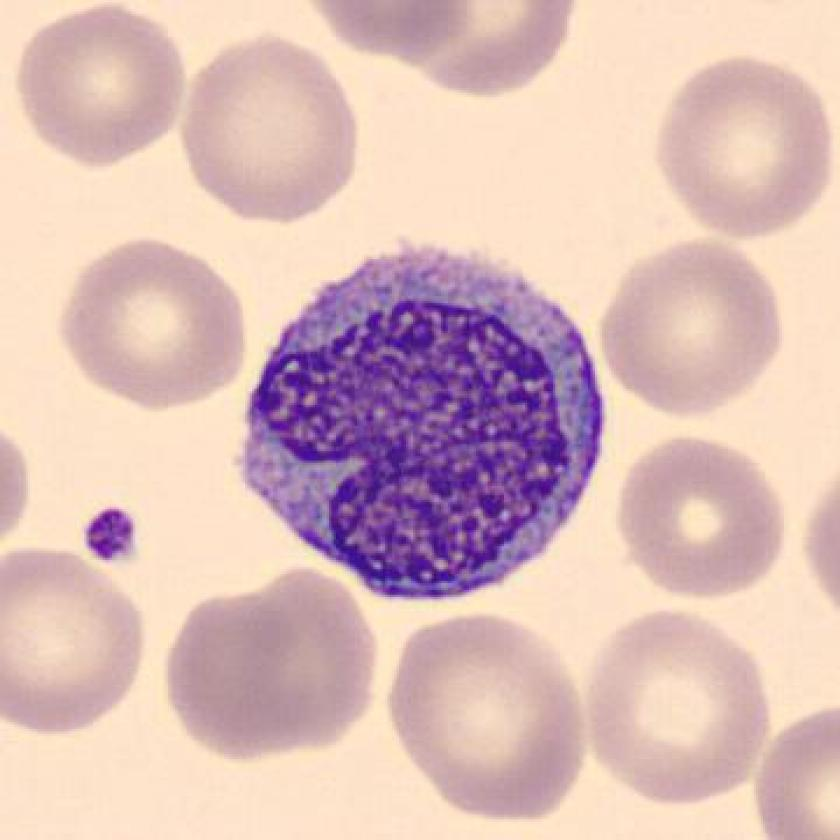monocyte: (218, 217, 636, 631)
